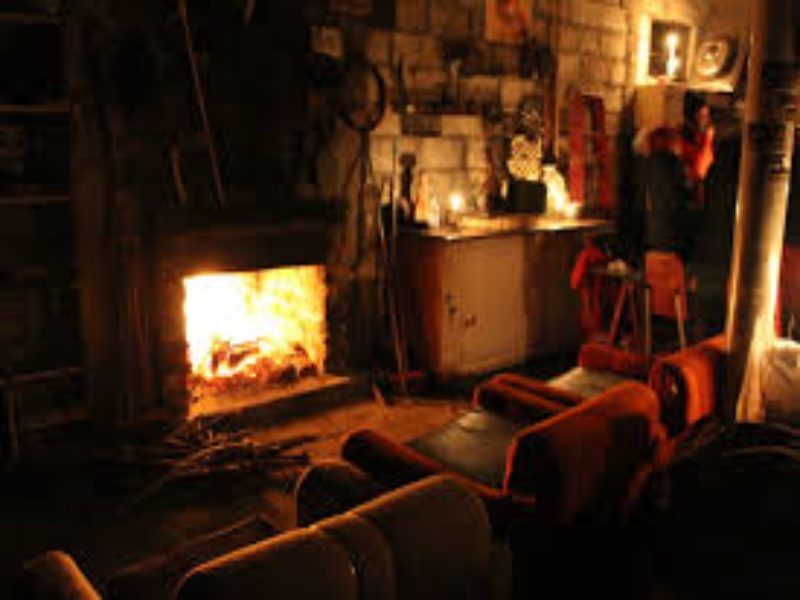fire: (186, 278, 318, 376)
